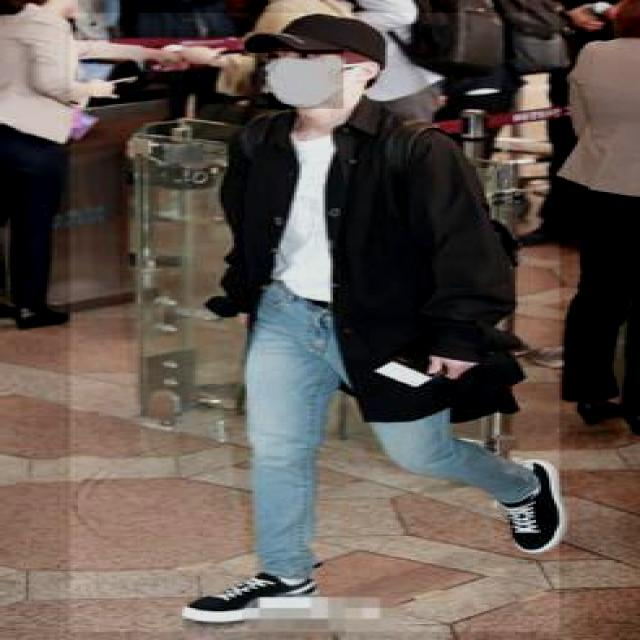face_mask: (266, 50, 344, 110)
head_nohelmet: (243, 10, 389, 67)
person: (68, 12, 559, 634)
shoes: (178, 566, 332, 626), (493, 456, 574, 558)
